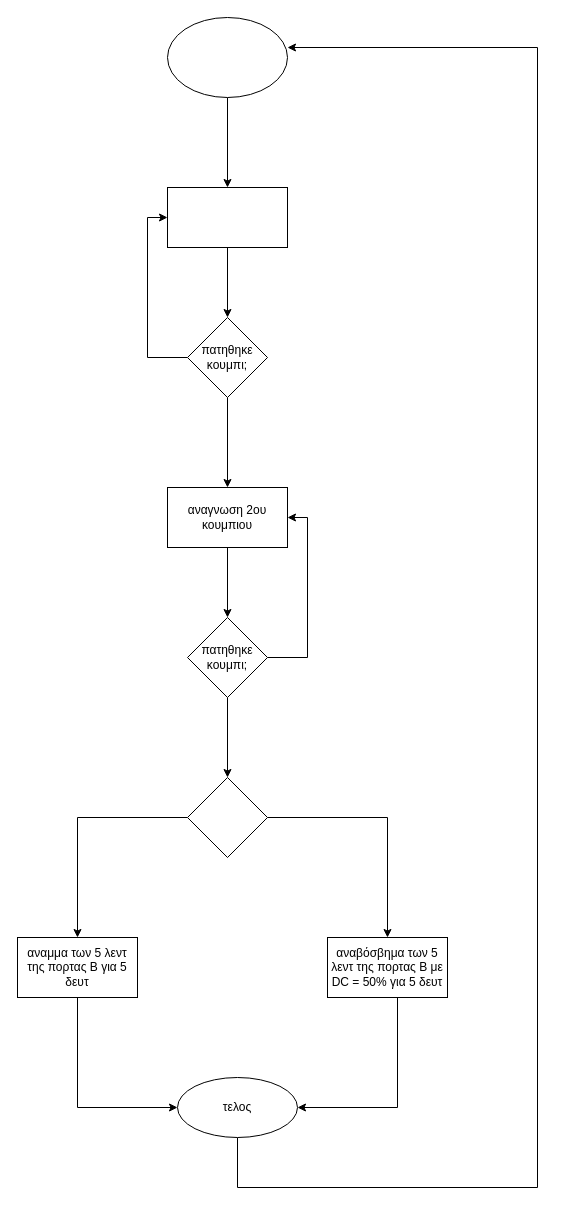
This 563x1213 diagram has some shape labels left out. Here are the shapes that lost their labels. From the top down, the centre of each, then its label:
At [227,57]: "start".
At [227,217]: "αναγνωση 1ου κουμπιου".
At [227,817]: "κωδικος σωστος;".
